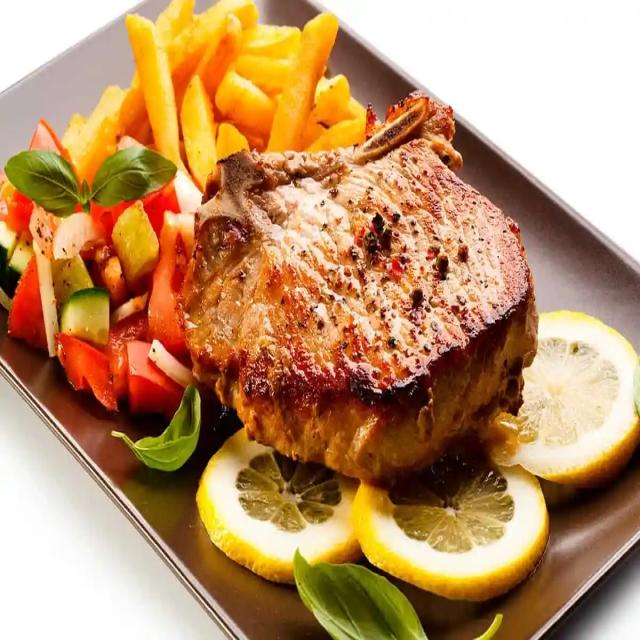carne de cerdo: (188, 132, 555, 484)
papa: (83, 1, 375, 176)
